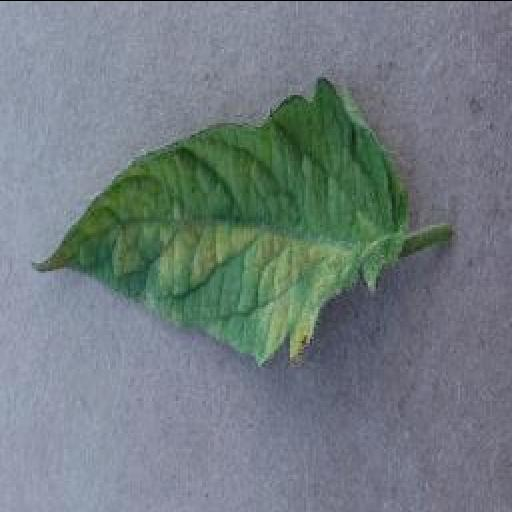disease_tomato: (30, 72, 410, 362)
